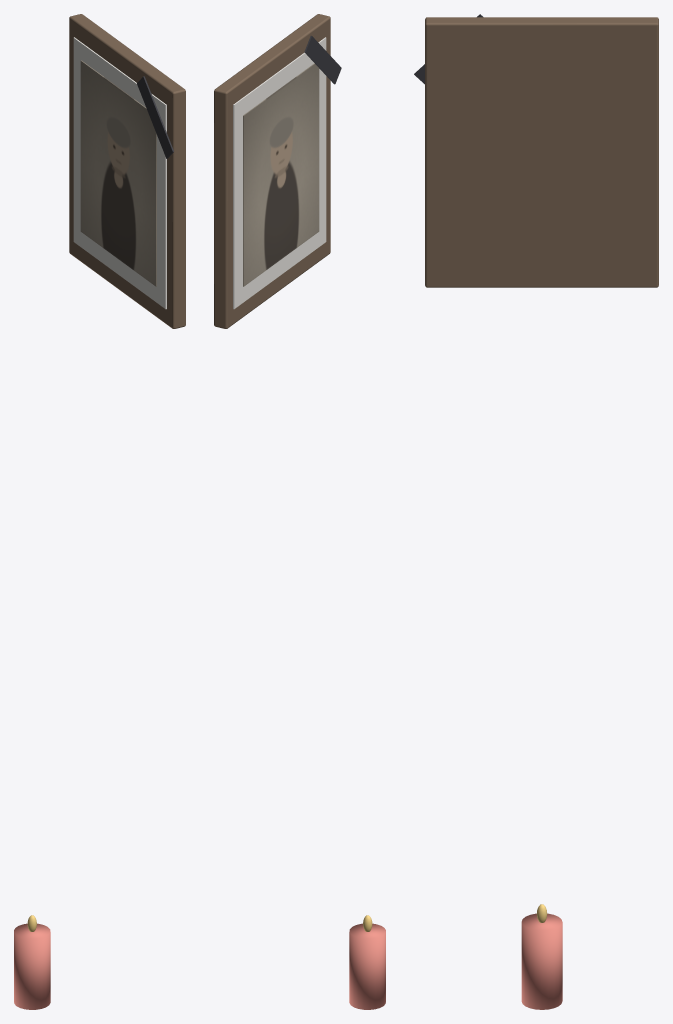
File: escena.casa.foto_recuerdo.fbx
The picture shows the model from 3 angles, left to right: view 1: azimuth 30°, elevation 25°; view 2: azimuth 150°, elevation 25°; view 3: azimuth 270°, elevation 25°; orthographic projection. The views are drawn at different scales.
Visible parts, largest first — view 1: Foto, Marco, Paspartu, Vaso de la vela, Cinta negra; view 2: Foto, Marco, Paspartu, Vaso de la vela, Cinta negra; view 3: Marco, Vaso de la vela.
Boxes of the visible parts, x1,y1,x2,y2 form: Foto: [80, 60, 156, 286]; Marco: [69, 14, 185, 328]; Paspartu: [73, 37, 166, 309]; Vaso de la vela: [14, 923, 50, 1009]; Cinta negra: [137, 76, 173, 158]; Foto: [243, 63, 319, 286]; Marco: [214, 14, 330, 328]; Paspartu: [233, 37, 326, 309]; Vaso de la vela: [349, 923, 385, 1009]; Cinta negra: [304, 35, 341, 84]; Marco: [425, 17, 658, 287]; Vaso de la vela: [521, 913, 562, 1009].
Bounding box in the file's own units: 0.26 × 1.95 × 0.4189.
8 materials, 1 textured.
